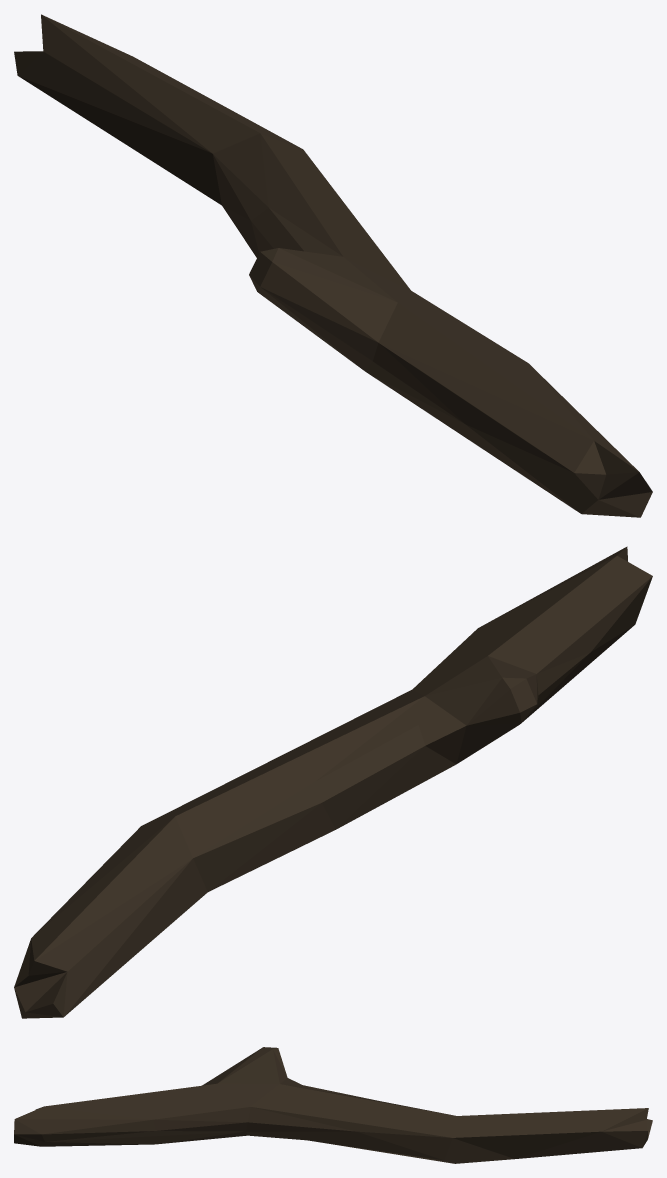
Rendered from alpine_SM_Env_Branch_01.gltf.
3 renders of one model, top to bottom at view 1: azimuth 30°, elevation 25°; view 2: azimuth 150°, elevation 25°; view 3: azimuth 270°, elevation 25°, orthographic. The views are drawn at different scales.
Visible parts, largest first — view 1: SM_Env_Branch_01; view 2: SM_Env_Branch_01; view 3: SM_Env_Branch_01.
Part boxes in pixels (bbox=[...]): SM_Env_Branch_01: bbox=[14, 14, 652, 517]; SM_Env_Branch_01: bbox=[14, 546, 652, 1018]; SM_Env_Branch_01: bbox=[14, 1047, 652, 1163].
Bounding box in the file's own units: 0.3773 × 0.2268 × 1.78.
1 material, 1 textured.
